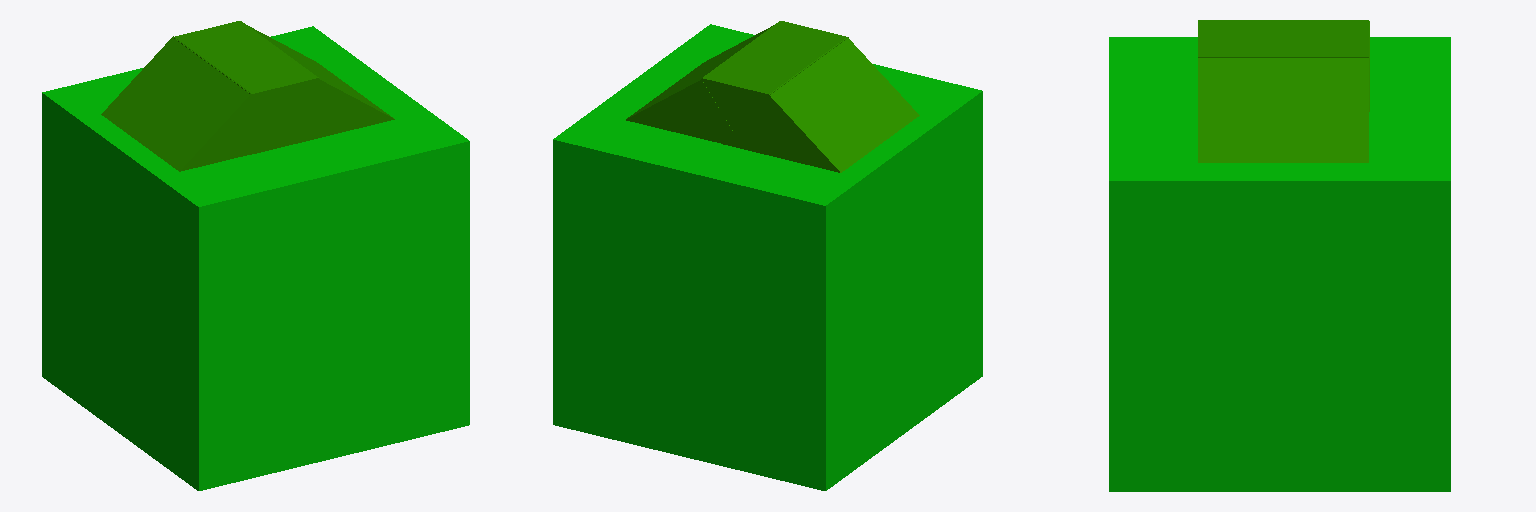
URDF robot description (robot):
<robot name="robot">
  <link name="base_footprint"></link>
  <joint name="base_joint" type="fixed">
    <parent link="base_footprint" />
    <child link="base_link" />
    <origin xyz="0 0 1" rpy="0 0 0" />
  </joint>
  <link name="base_link">
    <visual>
      <origin xyz="0 0 0" rpy="0 0 0" />
      <geometry>
        <box size="2 2 2" />
      </geometry>
      <material name="base_link-material">
        <color rgba="0.035601314869097636 0.7681511472425809 0.05286064701616471 1" />
      </material>
    </visual>
    <collision>
      <origin xyz="0 0 0" rpy="0 0 0" />
      <geometry>
        <box size="1 1 1" />
      </geometry>
    </collision>
    <inertial>
      <origin xyz="0 0 0" rpy="0 0 0" />
      <mass value="1" />
      <inertia ixx="0.16666666666666666" ixy="0" ixz="0" iyy="0.16666666666666666" iyz="0" izz="0.16666666666666666" />
    </inertial>
  </link>
  <joint name="base_link_to_cube2" type="fixed">
    <parent link="base_link" />
    <child link="cube2" />
    <origin xyz="0.35079122053436107 0.01978740439548199 0.7971542728726606" rpy="0 0.6371049002504439 0" />
  </joint>
  <link name="cube2">
    <visual>
      <origin xyz="0 0 0" rpy="0 0 0" />
      <geometry>
        <box size="1 1 0.8" />
      </geometry>
      <material name="cube2-material">
        <color rgba="0.19461783043107173 0.5775804404214573 0.004391442035325718 1" />
      </material>
    </visual>
    <collision>
      <origin xyz="0 0 0" rpy="0 0 0" />
      <geometry>
        <box size="1 1 0.8" />
      </geometry>
    </collision>
    <inertial>
      <origin xyz="0 0 0" rpy="0 0 0" />
      <mass value="1" />
      <inertia ixx="0.16666666666666666" ixy="0" ixz="0" iyy="0.16666666666666666" iyz="0" izz="0.16666666666666666" />
    </inertial>
  </link>
  <joint name="cube2_to_cube3" type="fixed">
    <parent link="cube2" />
    <child link="cube3" />
    <origin xyz="-0.5583119571531185 -0.00151345841358691 0.05692744510899682" rpy="0 -0.6371049002504438 0" />
  </joint>
  <link name="cube3">
    <visual>
      <origin xyz="0 0 0" rpy="0 0 0" />
      <geometry>
        <box size="0.5 1 0.5" />
      </geometry>
      <material name="cube3-material">
        <color rgba="0.19461783043107173 0.5775804404214573 0.004391442035325718 1" />
      </material>
    </visual>
    <collision>
      <origin xyz="0 0 0" rpy="0 0 0" />
      <geometry>
        <box size="0.5 1 0.5" />
      </geometry>
    </collision>
    <inertial>
      <origin xyz="0 0 0" rpy="0 0 0" />
      <mass value="1" />
      <inertia ixx="0.16666666666666666" ixy="0" ixz="0" iyy="0.16666666666666666" iyz="0" izz="0.16666666666666666" />
    </inertial>
  </link>
  <joint name="base_link_to_cube4" type="fixed">
    <parent link="base_link" />
    <child link="cube4" />
    <origin xyz="-0.3056872437460771 0.023722174657729057 0.7871006582688445" rpy="0 0.8928326260821726 0" />
  </joint>
  <link name="cube4">
    <visual>
      <origin xyz="0 0 0" rpy="0 0 0" />
      <geometry>
        <box size="1 1 0.8" />
      </geometry>
      <material name="cube4-material">
        <color rgba="0.19461783043107173 0.5775804404214573 0.004391442035325718 1" />
      </material>
    </visual>
    <collision>
      <origin xyz="0 0 0" rpy="0 0 0" />
      <geometry>
        <box size="1 1 0.8" />
      </geometry>
    </collision>
    <inertial>
      <origin xyz="0 0 0" rpy="0 0 0" />
      <mass value="1" />
      <inertia ixx="0.16666666666666666" ixy="0" ixz="0" iyy="0.16666666666666666" iyz="0" izz="0.16666666666666666" />
    </inertial>
  </link>
</robot>

--- Render facts (derived) ---
The picture shows the robot from 3 angles, left to right: view 1: azimuth 30°, elevation 25°; view 2: azimuth 150°, elevation 25°; view 3: azimuth 270°, elevation 25°; orthographic projection.
Robot: robot — 5 links, 4 joints (4 fixed); root link base_footprint; default pose: all joints at 0.
Links seen in each view (by area): view 1: base_link, cube4, cube3, cube2; view 2: base_link, cube4, cube3, cube2; view 3: base_link, cube2, cube3.
Boxes of the visible links, <box> form: base_link: <box>42,26,469,490</box>; cube4: <box>101,36,250,171</box>; cube3: <box>173,21,318,154</box>; cube2: <box>247,25,394,137</box>; base_link: <box>553,24,982,490</box>; cube4: <box>722,37,919,172</box>; cube3: <box>702,21,848,131</box>; cube2: <box>626,25,773,143</box>; base_link: <box>1109,37,1450,491</box>; cube2: <box>1198,58,1368,162</box>; cube3: <box>1198,20,1368,57</box>.
Bounding box of the posed robot: 2 × 2 × 2.43 m (x, y, z).
Geometry: primitives only (box / cylinder / sphere), no mesh files.